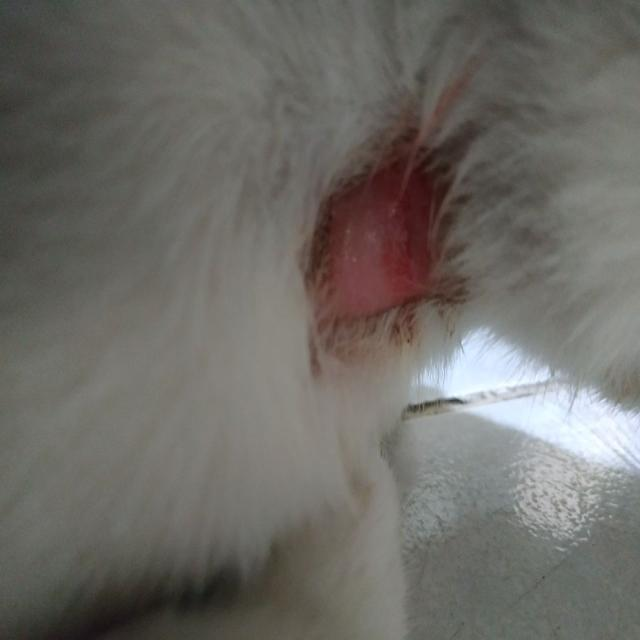hac lao: (262, 125, 486, 365)
